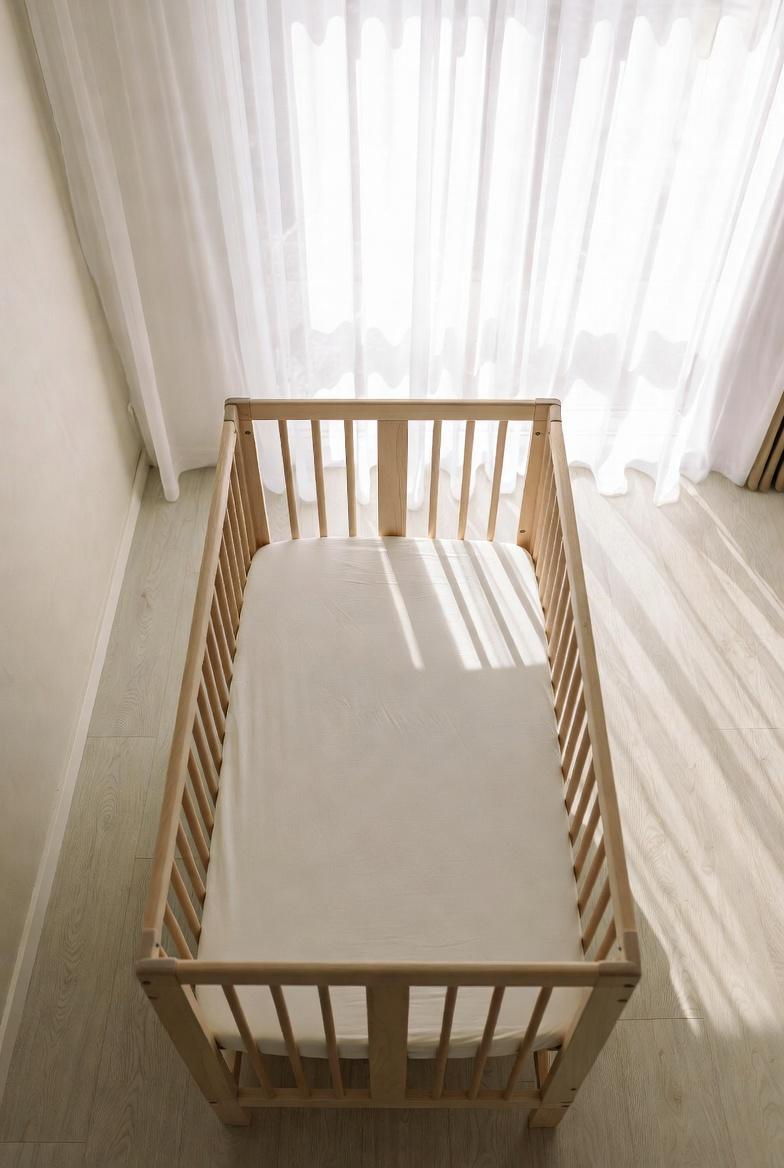crib: (137, 400, 640, 1126)
